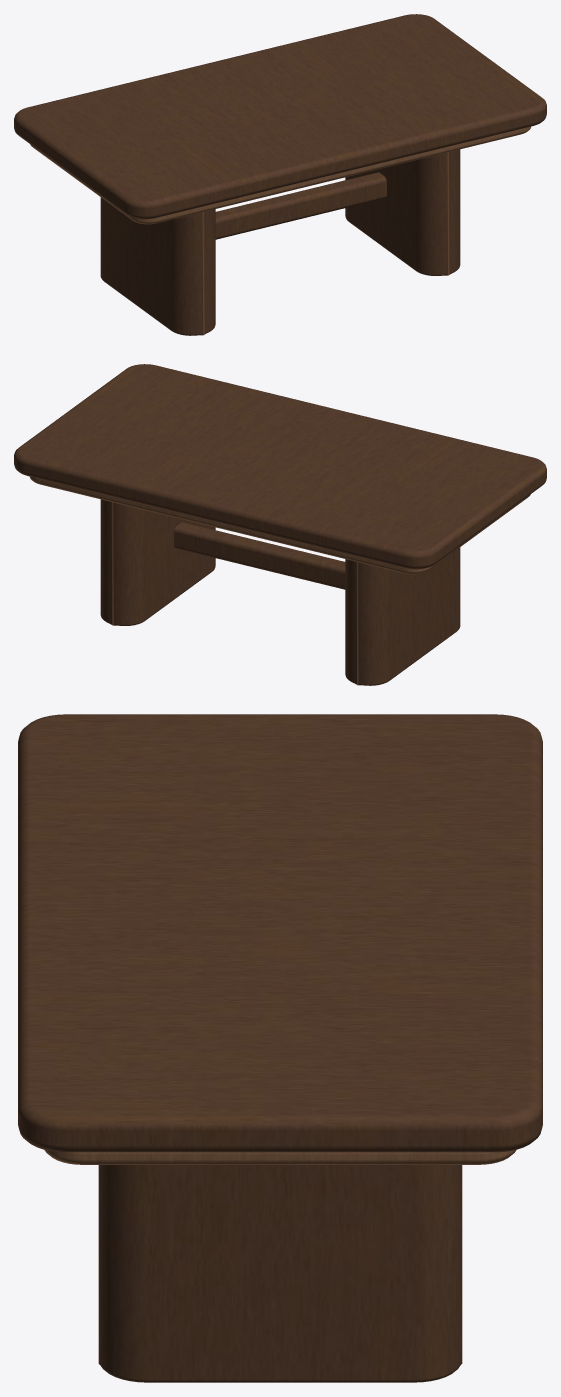
The model's file is still-center-table.glb.
The picture shows the model from 3 angles, top to bottom: view 1: azimuth 30°, elevation 25°; view 2: azimuth 150°, elevation 25°; view 3: azimuth 270°, elevation 25°; orthographic projection. The views are drawn at different scales.
Visible parts, largest first — view 1: top, slab-1, slab1, bar, edge; view 2: top, slab-1, slab1, bar, edge; view 3: top, slab1, edge.
Part boxes in pixels (<box>): top: <box>14,14,546,219</box>; slab-1: <box>100,197,215,335</box>; slab1: <box>345,149,460,275</box>; bar: <box>215,172,386,239</box>; edge: <box>30,126,530,224</box>; top: <box>14,364,546,569</box>; slab-1: <box>345,547,460,685</box>; slab1: <box>100,499,215,625</box>; bar: <box>174,522,345,589</box>; edge: <box>30,476,530,574</box>; top: <box>18,714,542,1152</box>; slab1: <box>98,1165,462,1382</box>; edge: <box>44,1150,516,1164</box>.
Size of the model in its own units: 1.2 by 0.45 by 0.65.
2 materials, 2 textured.
